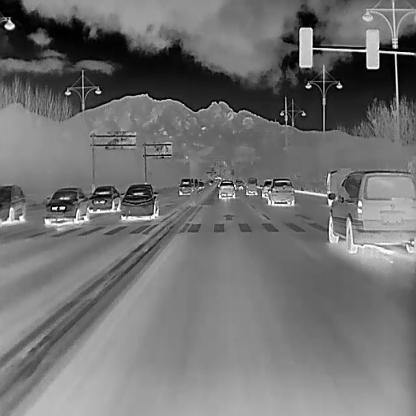car: (328, 168, 416, 253), (42, 186, 89, 225), (119, 182, 159, 219), (325, 169, 353, 207), (0, 182, 25, 223), (89, 184, 120, 212), (268, 178, 294, 205), (217, 179, 236, 199), (259, 178, 273, 197), (178, 178, 191, 195), (245, 177, 257, 194), (235, 180, 243, 190), (197, 181, 203, 190), (208, 179, 213, 184)
